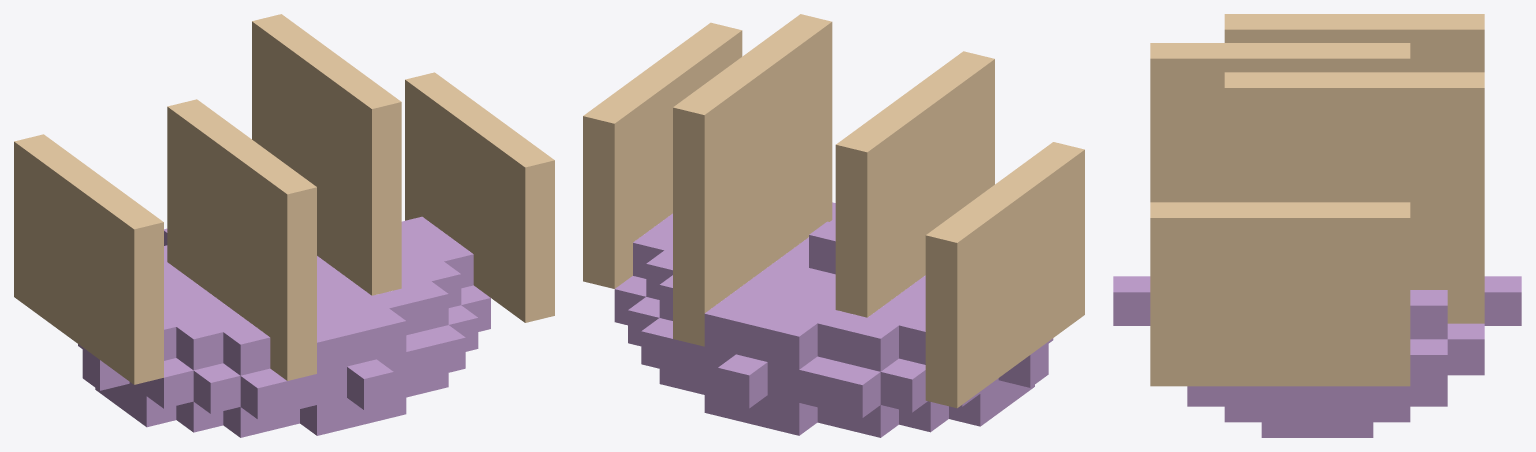
File: alien-biosphere-plate-rosette-1e4a8230__22742.glb
The picture shows the model from 3 angles, left to right: view 1: azimuth 30°, elevation 25°; view 2: azimuth 150°, elevation 25°; view 3: azimuth 270°, elevation 25°; orthographic projection. The views are drawn at different scales.
Parts seen in each view (by area): view 1: plate-rosette; view 2: plate-rosette; view 3: plate-rosette.
Boxes of the visible parts, <box> form: plate-rosette: <box>14,14,554,437</box>; plate-rosette: <box>583,14,1084,437</box>; plate-rosette: <box>1113,14,1521,437</box>.
Bounding box in the file's own units: 2.6 × 2 × 2.2.
